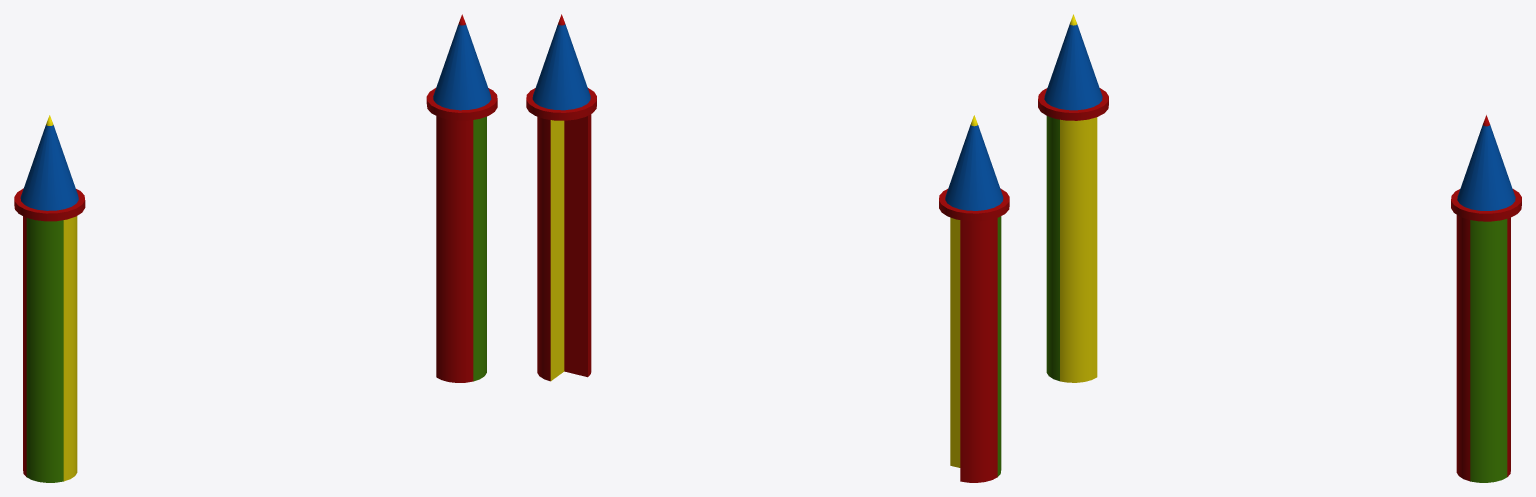
File: Entry Towers.fbx
3 renders of one model, left to right at view 1: azimuth 30°, elevation 25°; view 2: azimuth 150°, elevation 25°; view 3: azimuth 330°, elevation 25°, orthographic.
Parts seen in each view (by area): view 1: Entry; view 2: Entry; view 3: Entry.
Part boxes in pixels (<box>): Entry: <box>14,14,497,482</box>; Entry: <box>526,14,1009,482</box>; Entry: <box>1038,14,1521,482</box>.
Bounding box in the file's own units: 75.89 × 54.58 × 9.88.
